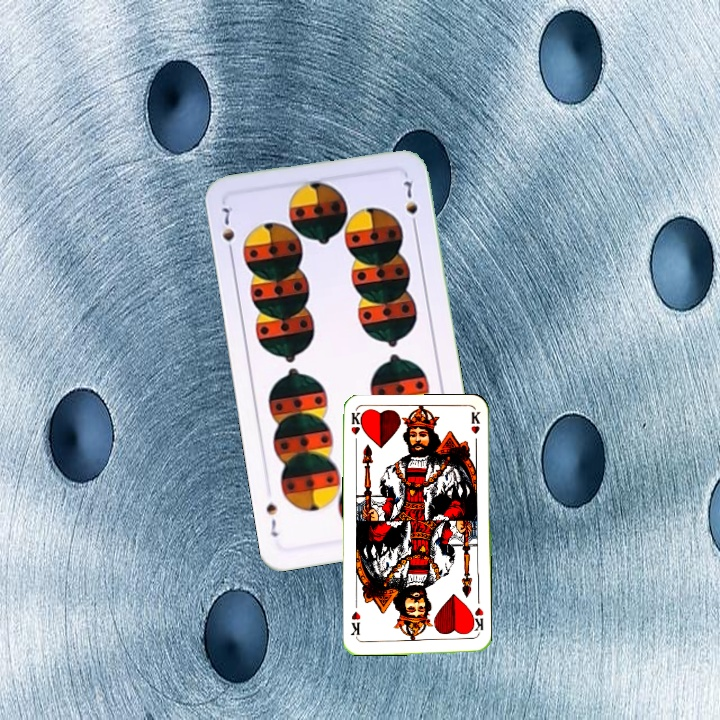HK: (347, 410, 365, 450), (467, 603, 486, 638)
S7: (217, 202, 237, 259)
